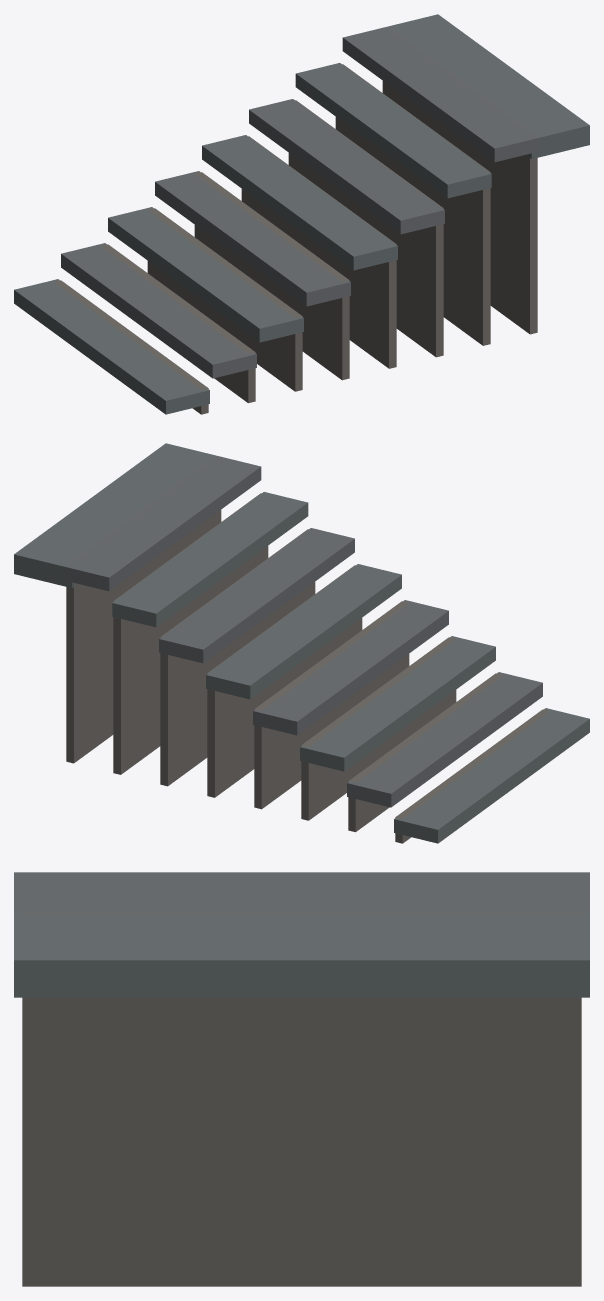
The model's file is env_base99_stair_exterior_h2_visual_top3d_v001.glb.
The picture shows the model from 3 angles, top to bottom: view 1: azimuth 30°, elevation 25°; view 2: azimuth 150°, elevation 25°; view 3: azimuth 270°, elevation 25°; orthographic projection. The views are drawn at different scales.
Visible parts, largest first — view 1: 外门小楼梯_主体_金属哑光反光; view 2: 外门小楼梯_主体_金属哑光反光; view 3: 外门小楼梯_主体_金属哑光反光.
Part boxes in pixels (bbox=[...]): 外门小楼梯_主体_金属哑光反光: bbox=[14, 14, 589, 414]; 外门小楼梯_主体_金属哑光反光: bbox=[14, 443, 589, 843]; 外门小楼梯_主体_金属哑光反光: bbox=[14, 872, 589, 1286].
Size of the model in its own units: 4.52 by 2 by 2.8.
2 materials, 2 textured.
